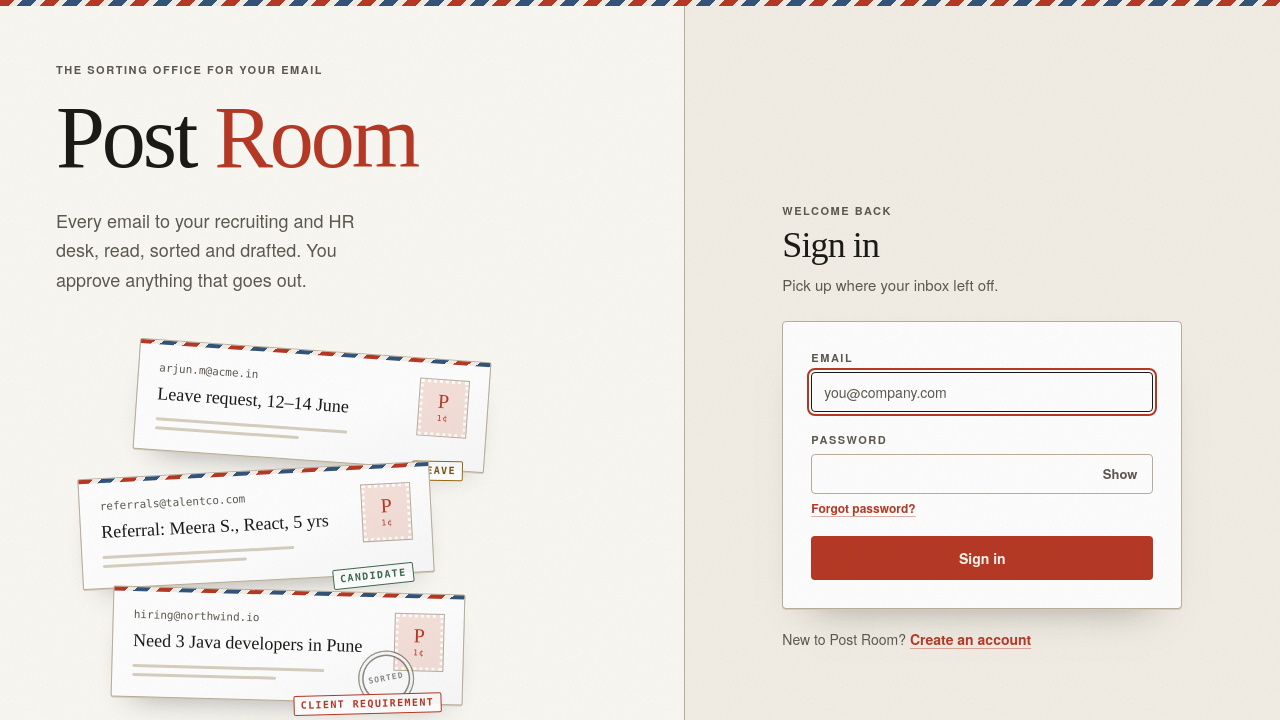
it: SignInPage › warns when Caps Lock is on in the password field
This screenshot has width=1280, height=720.
Click the password field labelled "Password" at (982,474), box [811,454,1153,494]
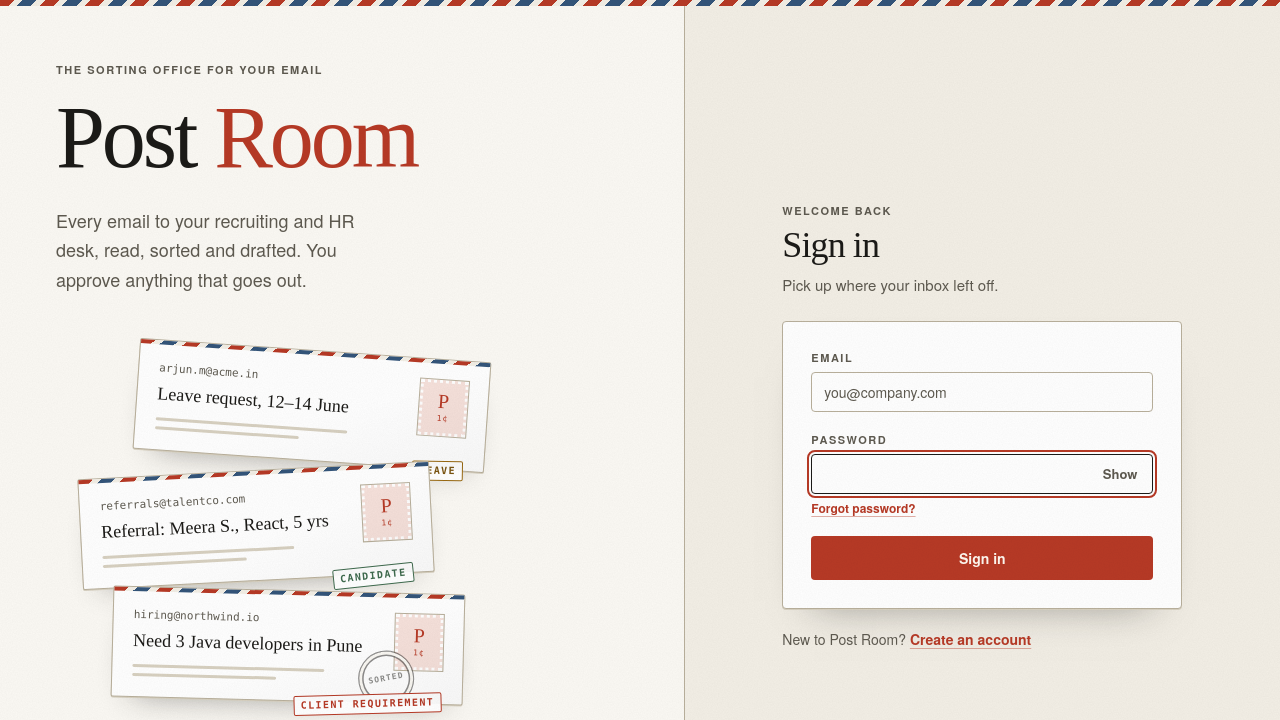
Expected: the text "Caps Lock is on" is not shown
Type keys "{CapsLock}a"
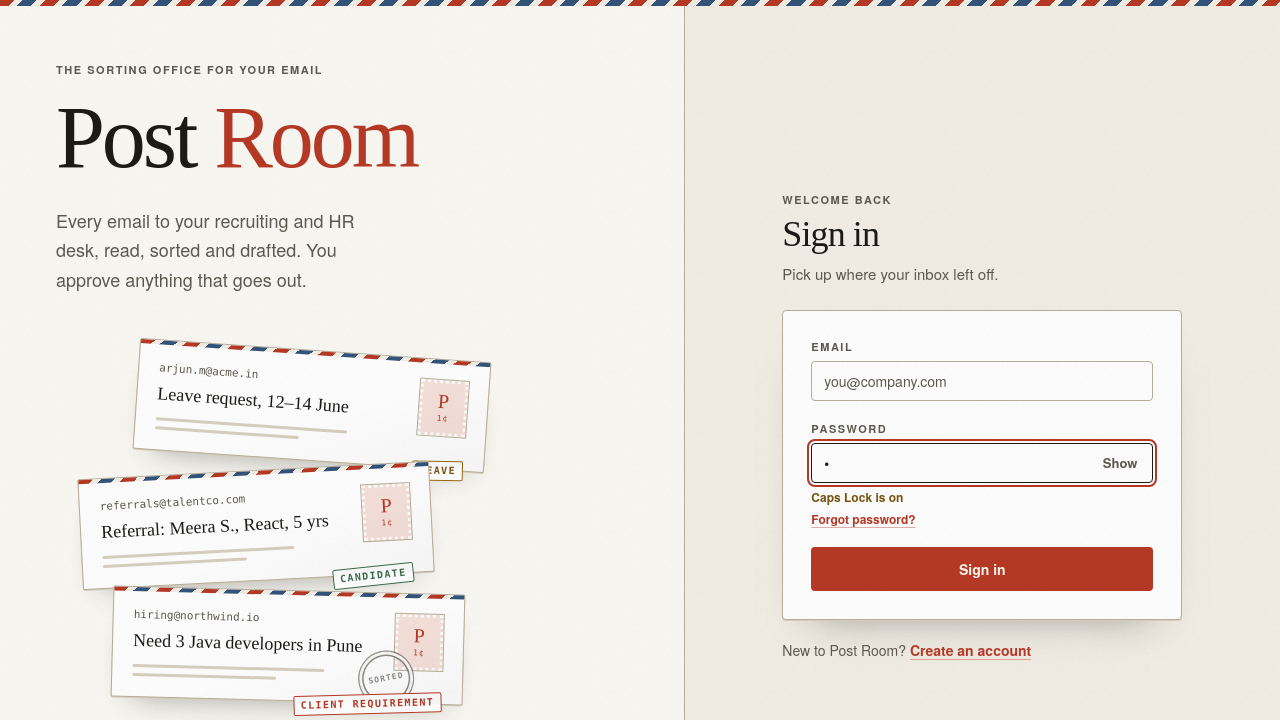
Expected: the text "Caps Lock is on" is shown, [811,488,903,506]
